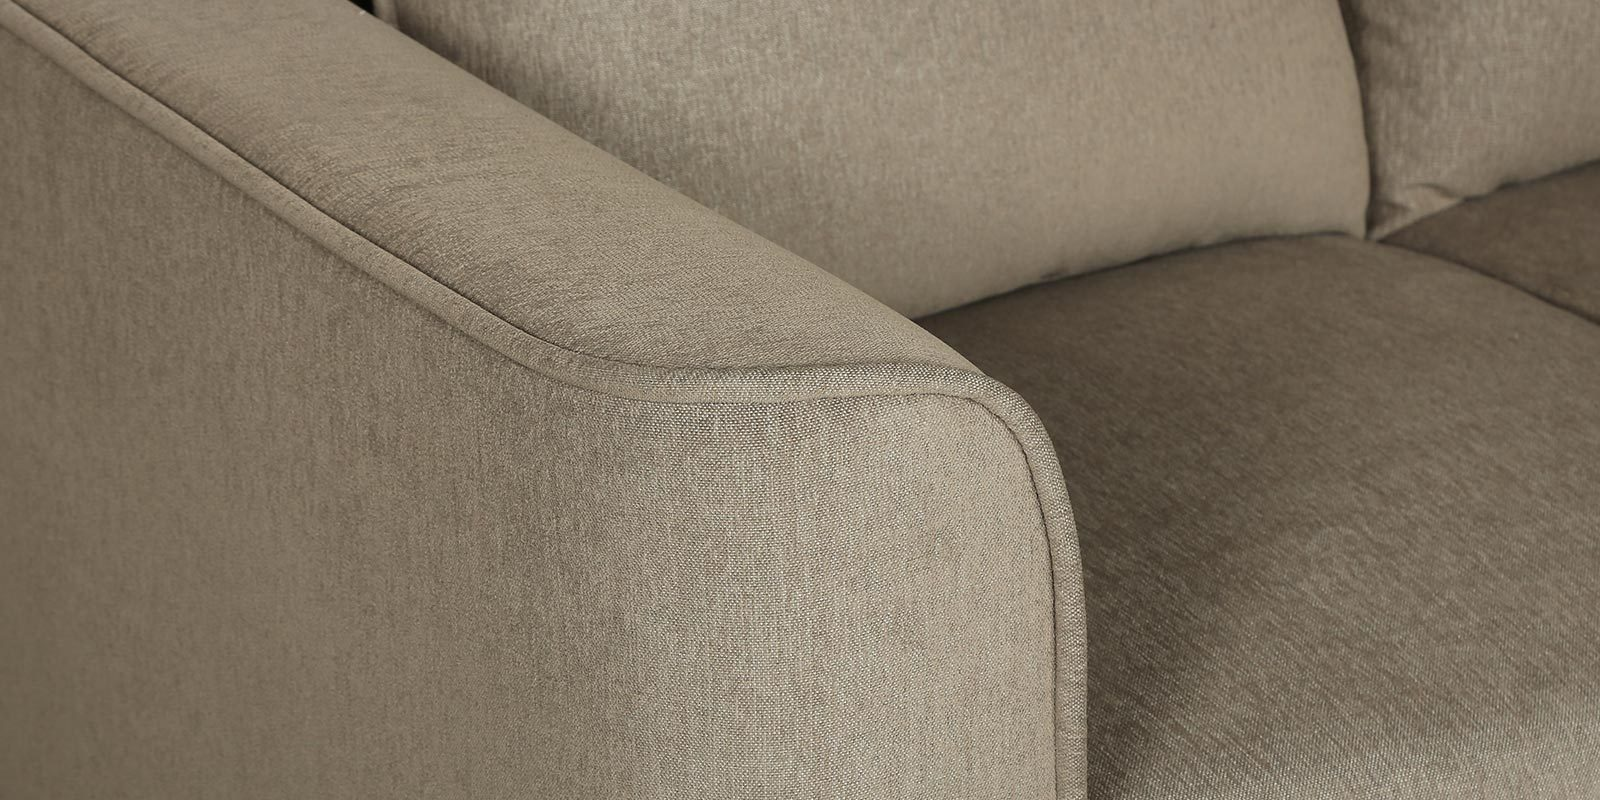Lara Three Seater Sofa in Sandy Brown Colour by CasaCraft: (2, 1, 1595, 800)
